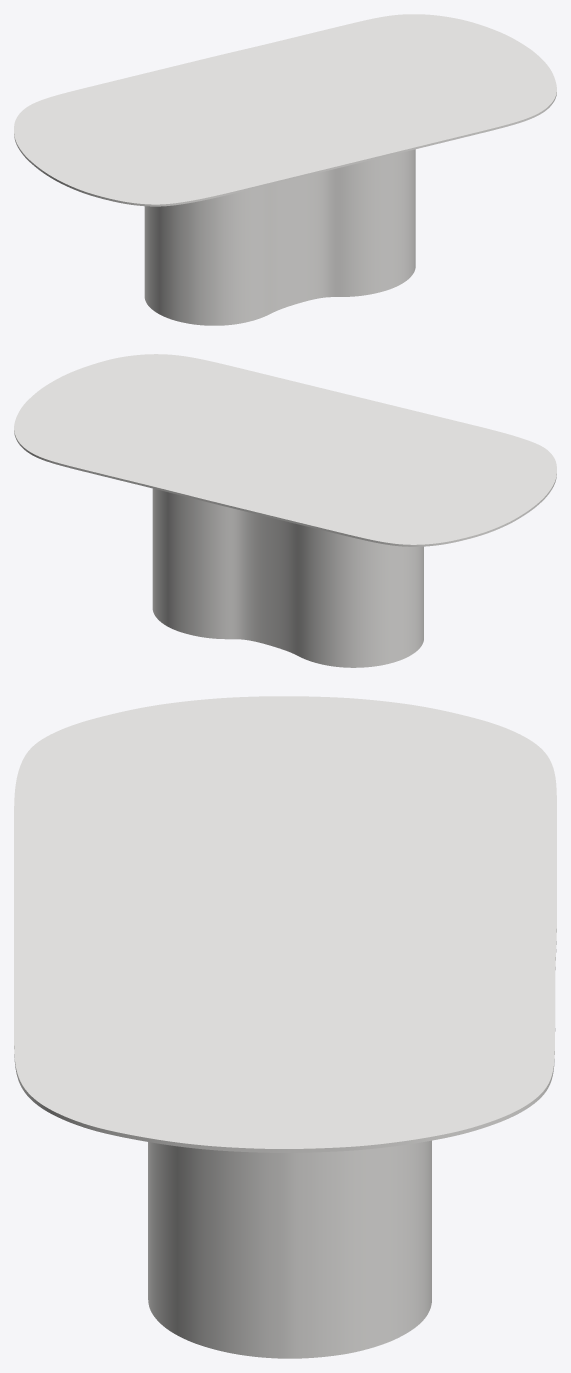
The model's file is purewhite_oval_facet_riverwave.glb.
3 views of the same model, one above another, from view 1: azimuth 30°, elevation 25°; view 2: azimuth 150°, elevation 25°; view 3: azimuth 270°, elevation 25° (orthographic). The views are drawn at different scales.
Parts seen in each view (by area): view 1: facet_oval, riverwave; view 2: facet_oval, riverwave; view 3: facet_oval, riverwave.
Boxes of the visible parts, x1=… form: facet_oval: x1=14, y1=14, x2=556, y2=206; riverwave: x1=144, y1=149, x2=415, y2=325; facet_oval: x1=14, y1=354, x2=556, y2=546; riverwave: x1=152, y1=488, x2=423, y2=667; facet_oval: x1=14, y1=696, x2=556, y2=1152; riverwave: x1=148, y1=1140, x2=431, y2=1358.
Bounding box in the file's own units: 7.5 × 2.5 × 3.8.
1 material, 1 textured.
